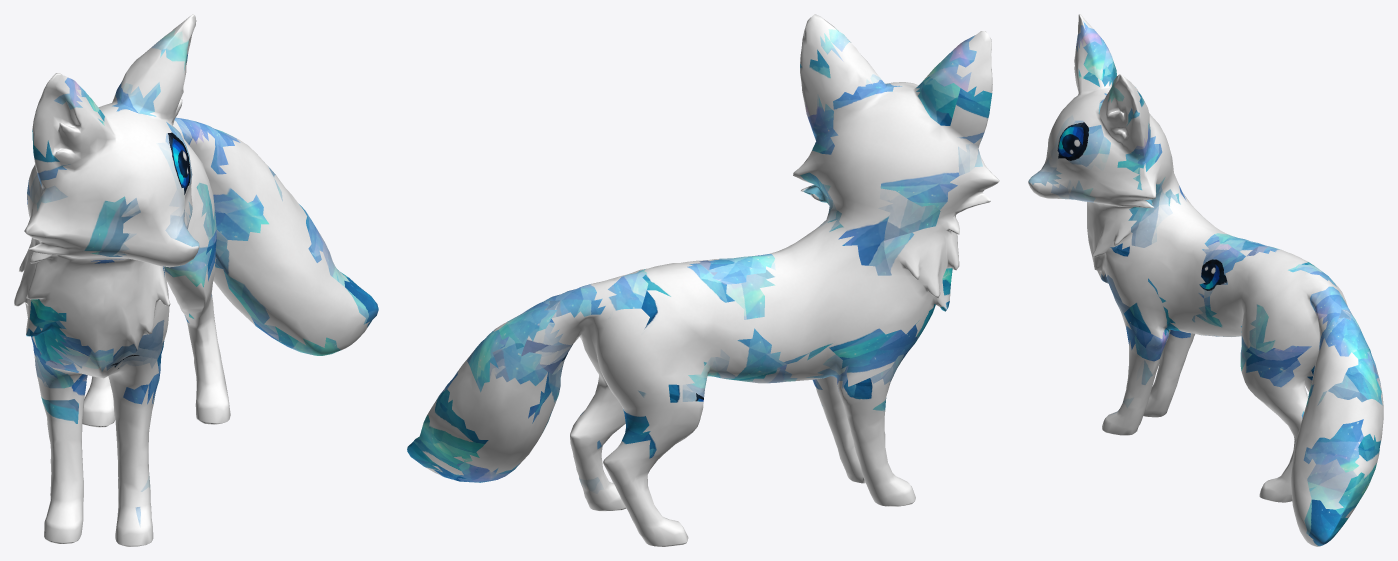
File: aurora_fox_basic_10k.fbx
3 views of the same model, side by side, from view 1: azimuth 30°, elevation 25°; view 2: azimuth 150°, elevation 25°; view 3: azimuth 270°, elevation 25° (orthographic). The views are drawn at different scales.
Visible parts, largest first — view 1: aurora_fox_basic_decimated; view 2: aurora_fox_basic_decimated; view 3: aurora_fox_basic_decimated.
Boxes of the visible parts, bbox=[...] form: aurora_fox_basic_decimated: bbox=[14, 14, 378, 546]; aurora_fox_basic_decimated: bbox=[407, 14, 999, 546]; aurora_fox_basic_decimated: bbox=[1028, 14, 1383, 546].
Size of the model in its own units: 1.91 by 1.82 by 1.55.
